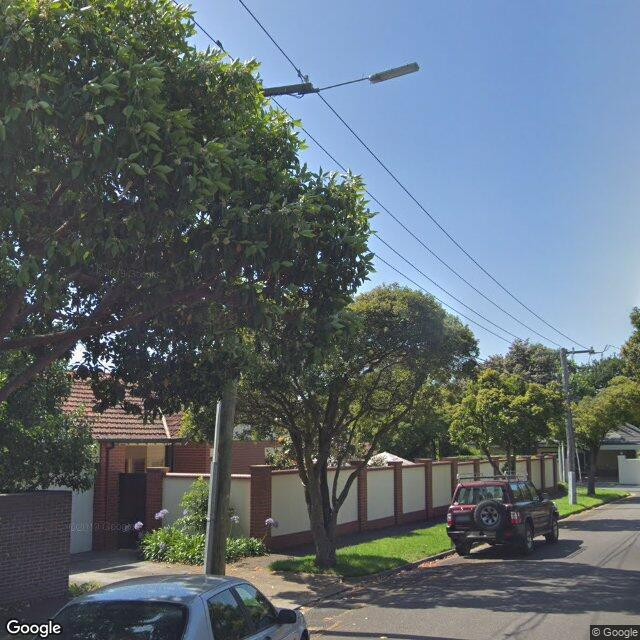crossarm: (262, 83, 318, 97), (562, 349, 595, 354)
streetlight: (320, 62, 421, 92)
timber-pole: (202, 368, 236, 574), (561, 347, 576, 505)
